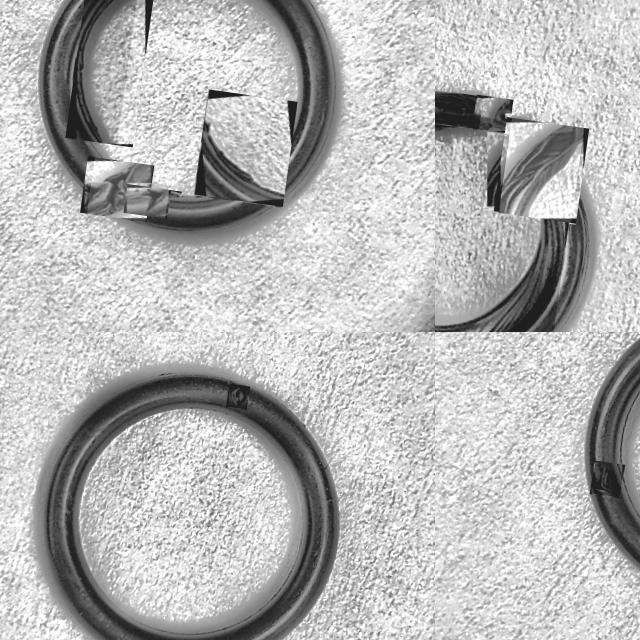切割缺陷: (500, 126, 583, 215), (88, 163, 150, 215), (435, 93, 479, 129), (127, 188, 169, 216), (593, 463, 620, 496), (228, 386, 248, 408)
挤压缺陷: (475, 99, 508, 131)
裂纹: (435, 133, 565, 332), (204, 120, 284, 198), (76, 0, 113, 143), (158, 189, 180, 197)
